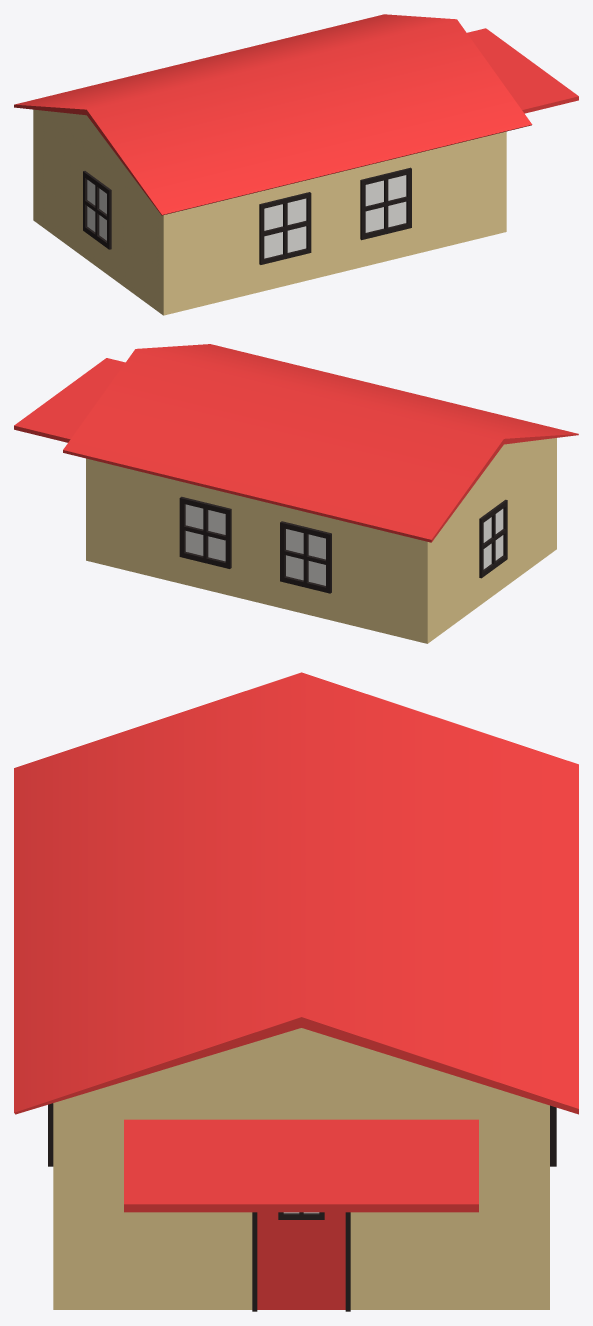
File: House 04 R.FBX
The picture shows the model from 3 angles, top to bottom: view 1: azimuth 30°, elevation 25°; view 2: azimuth 150°, elevation 25°; view 3: azimuth 270°, elevation 25°; orthographic projection. The views are drawn at different scales.
Parts seen in each view (by area): view 1: Box001; view 2: Box001; view 3: Box001.
Boxes of the visible parts, box(x1,y1,x2,y2) form: Box001: box(14, 14, 578, 315); Box001: box(14, 344, 578, 643); Box001: box(14, 672, 578, 1311).
Bounding box in the file's own units: 34.58 × 11.95 × 19.9.
